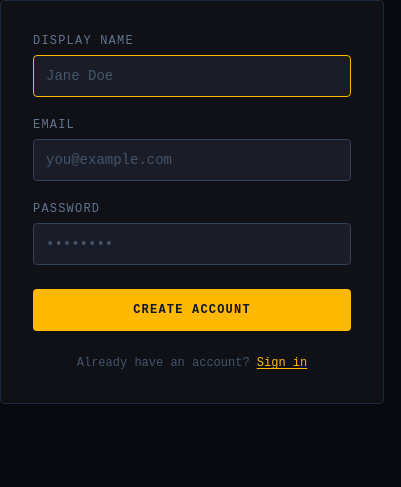
Test: RegisterForm › shows generic error when error has no message
Type "a@b.com" into the field with placeholder "you@example.com" at (192, 160), box [33,139,351,181]
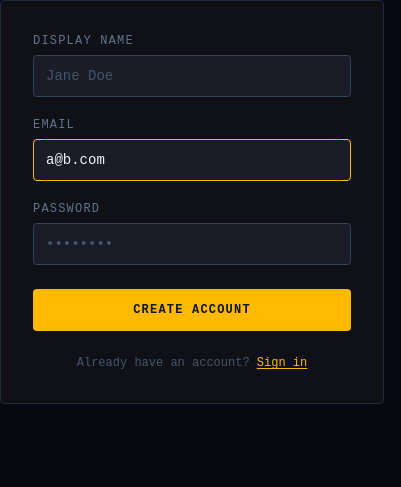
Type "password123" into the password field with placeholder "••••••••" at (192, 244), box [33,223,351,265]
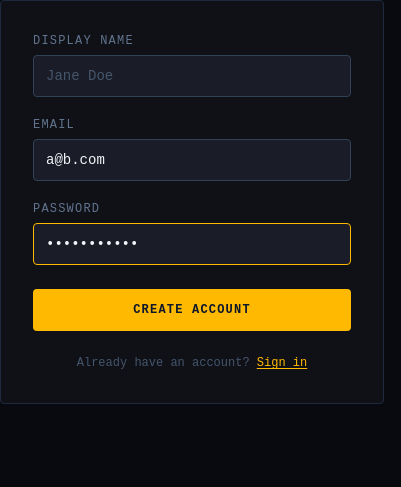
Click the button "Create account" at (192, 310), box [33,289,351,331]
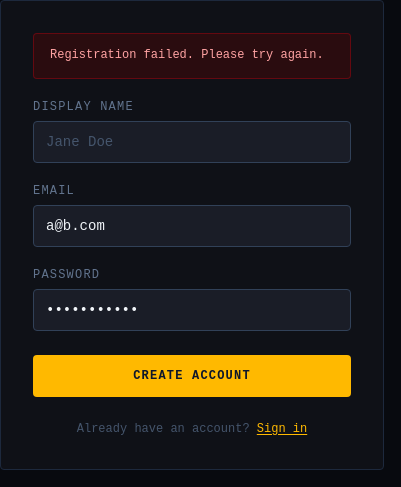
Result: the text "Registration failed. Please try again." is shown at [33,33,351,78]
